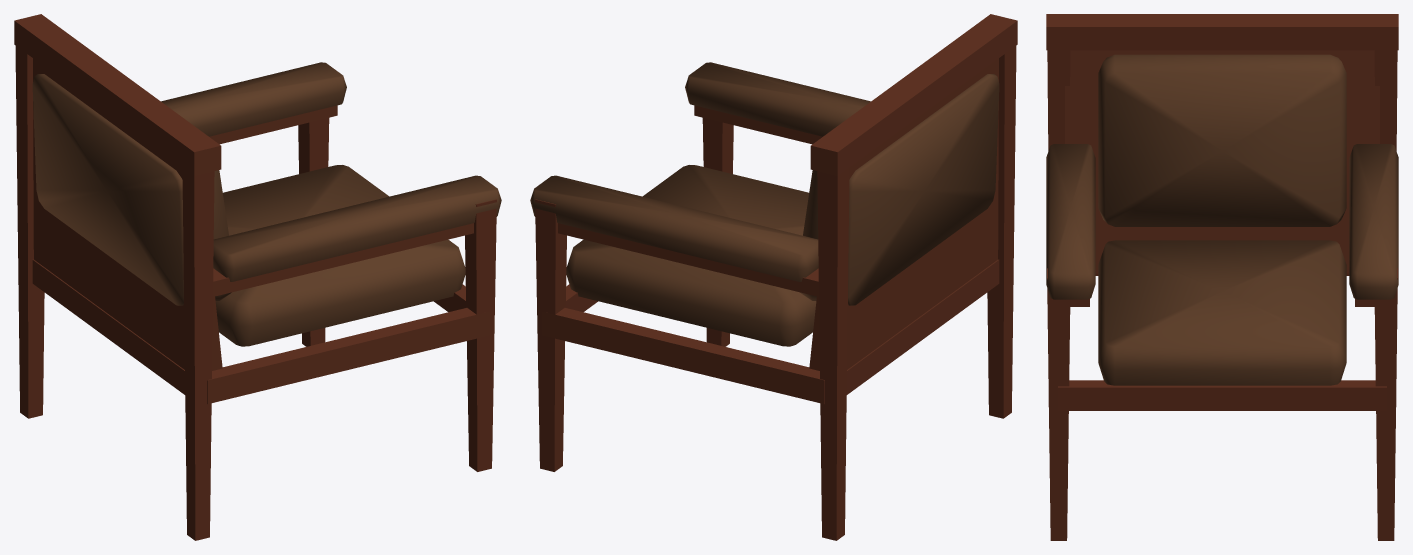
Rendered from parametric-armchair-2nd-pub.glb.
3 views of the same model, side by side, from view 1: azimuth 30°, elevation 25°; view 2: azimuth 150°, elevation 25°; view 3: azimuth 270°, elevation 25° (orthographic). The views are drawn at different scales.
Visible parts, largest first — view 1: parametric-armchair-2nd-pub; view 2: parametric-armchair-2nd-pub; view 3: parametric-armchair-2nd-pub.
Part boxes in pixels (x1,y1,x2,y2): parametric-armchair-2nd-pub: [14, 14, 501, 540]; parametric-armchair-2nd-pub: [530, 14, 1017, 540]; parametric-armchair-2nd-pub: [1046, 14, 1398, 540].
Bounding box in the file's own units: 0.75 × 0.9 × 0.75.
